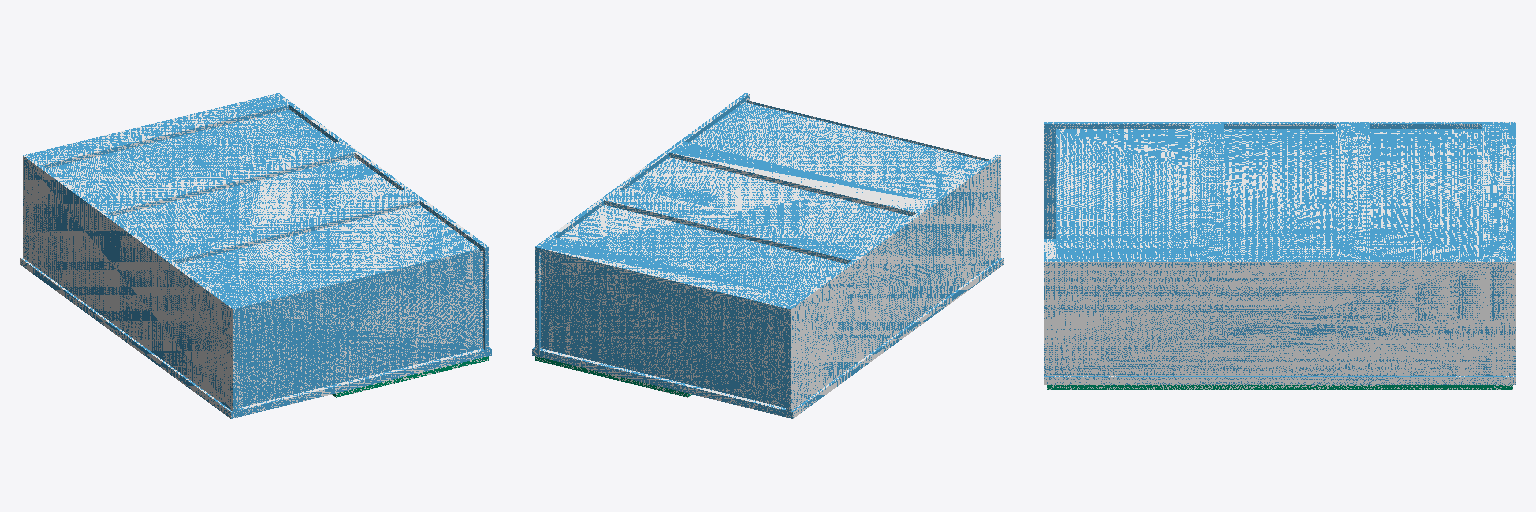
robot.urdf — right-pull-door:
<?xml version="1.0" ?>
<robot name="right-pull-door">
	<link name="base"/>
	<link name="link_0">
		<visual name="out-frame">
			<origin xyz="0 0 0"/>
			<geometry>
				<mesh filename="texture_dae/frame.dae" scale="0.8 0.8 0.8"/>
			</geometry>
		</visual>
		<collision>
			<origin xyz="0 0 0"/>
			<geometry>
				<mesh filename="texture_dae/frame.dae" scale="0.8 0.8 0.8"/>
			</geometry>
		</collision>
	</link>
	<joint name="joint_0" type="fixed">
		<origin rpy="1.570796326794897 0 -1.570796326794897" xyz="0 0 0"/>
		<child link="link_0"/>
		<parent link="base"/>
	</joint>
	<link name="link_1">
		<visual name="surf-board">
			<origin xyz="1.2410293698310852 -0.10945920129679426 0"/>
			<geometry>
				<mesh filename="texture_dae/board.dae" scale="0.8 0.8 0.8"/>
			</geometry>
		</visual>
		<collision>
			<origin xyz="1.2410293698310852 -0.10945920129679426 0"/>
			<geometry>
				<mesh filename="texture_dae/board.dae" scale="0.8 0.8 0.8"/>
			</geometry>
		</collision>
	</link>
	<joint name="joint_1" type="revolute">
		<origin xyz="-1.2410293698310852 0.10945920129679426 0"/>
		<axis xyz="0 -1 0"/>
		<child link="link_1"/>
		<parent link="link_0"/>
		<limit lower="0" upper="1.5079644737231006"/>
	</joint>
	<link name="link_2">
		<visual name="handle">
			<origin xyz="0 0 0"/>
			<geometry>
				<mesh filename="texture_dae/9962024.dae" scale="1.5444295751722061 1.5444295751722061 1.5444295751722061"/>
			</geometry>
		</visual>
		<collision>
			<origin xyz="0 0 0"/>
			<geometry>
				<mesh filename="texture_dae/9962024.dae" scale="1.5444295751722061 1.5444295751722061 1.5444295751722061"/>
			</geometry>
		</collision>
	</link>
	<joint name="joint_2" type="revolute">
		<origin xyz="1.2410293698310852 -0.10945920129679426 0.009322602628239486"/>
		<child link="link_2"/>
		<parent link="link_1"/>
		<axis xyz="0 0 1"/>
		<limit lower="0" upper="1.5079644737231006"/>
	</joint>
</robot>

--- What the picture shows (computed from the rendered views, not written in the file) ---
3 views of the same robot in one strip: view 1: azimuth 30°, elevation 25°; view 2: azimuth 150°, elevation 25°; view 3: azimuth 270°, elevation 25° (orthographic).
Model right-pull-door with 4 links and 3 joints (2 revolute, 1 fixed), rooted at base, posed every joint at zero.
Visible links, largest first — view 1: link_0, link_1; view 2: link_0, link_1; view 3: link_0, link_1.
Link boxes in pixels (bbox=[...]): link_0: bbox=[20, 93, 491, 418]; link_1: bbox=[332, 356, 488, 397]; link_0: bbox=[532, 93, 1003, 418]; link_1: bbox=[535, 356, 691, 397]; link_0: bbox=[1044, 122, 1515, 384]; link_1: bbox=[1047, 385, 1512, 389].
Bounding box of the posed robot: 0.9203 × 1.29 × 0.3862 m (x, y, z).
Meshes: 3 distinct files referenced, 2 mesh visuals loaded (2 Collada DAE); not drawn: 1 (reference not matched to a file when rendering).
